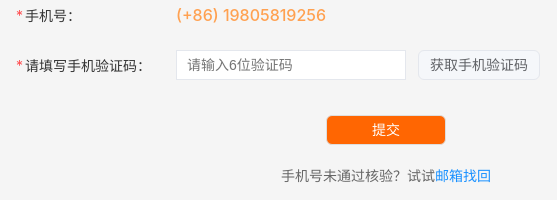
Test case: VerificationCodeStep 组件测试 › 验证码验证 › 应该在验证码错误时显示错误提示
This screenshot has width=557, height=200.
Type "000000" into the field with placeholder "请输入6位验证码" at (291, 65), box [176,50,406,80]
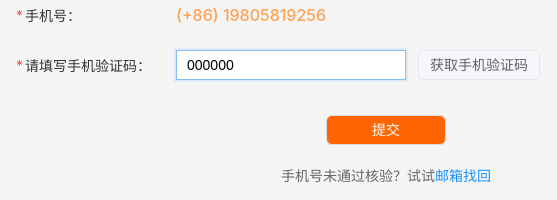
Click the button "提交" at (386, 130), box [326,115,446,145]
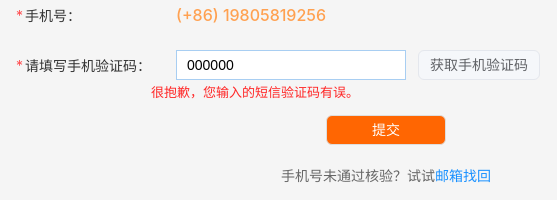
Check: the text "很抱歉，您输入的短信验证码有误。" is shown, box [151,82,359,102]
